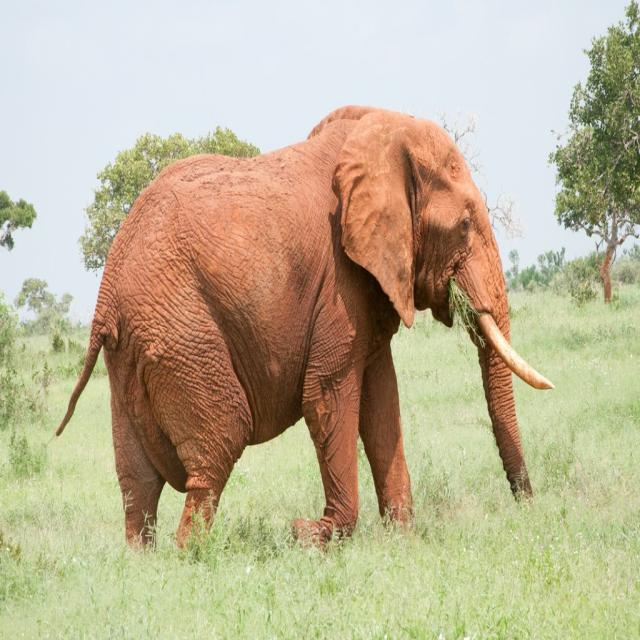Elephant: (54, 103, 555, 559)
